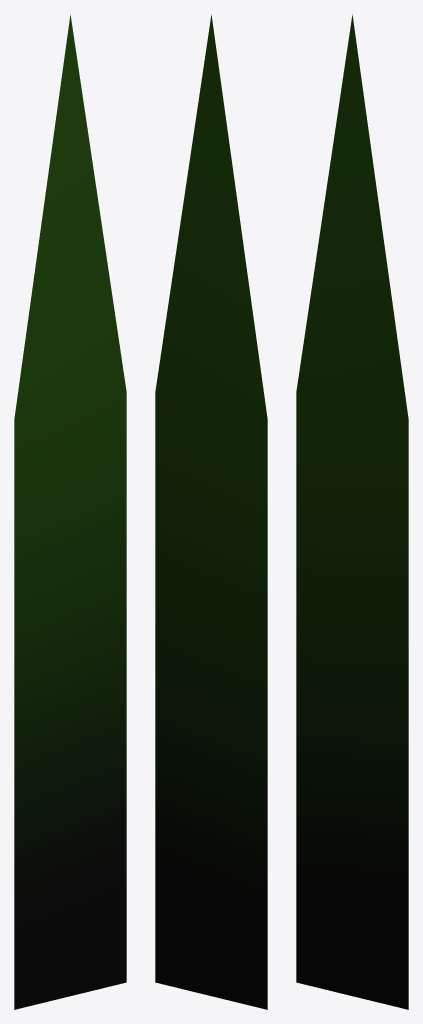
The model's file is grass_medium_lod.glb.
3 views of the same model, side by side, from view 1: azimuth 30°, elevation 25°; view 2: azimuth 150°, elevation 25°; view 3: azimuth 330°, elevation 25° (orthographic).
Visible parts, largest first — view 1: Grass; view 2: Grass; view 3: Grass.
Part boxes in pixels (<box>): Grass: <box>14,14,126,1009</box>; Grass: <box>155,14,267,1009</box>; Grass: <box>296,14,408,1009</box>.
Size of the model in its own units: 0.06 by 0.5 by 0.
Materials: 1 (1 with a texture image).
